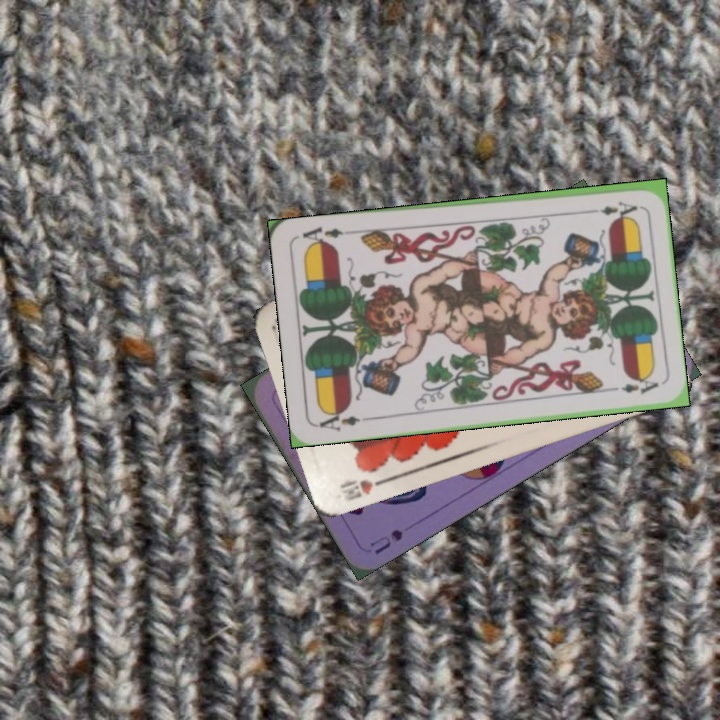EA: (315, 406, 373, 434), (583, 197, 640, 218)
H10: (335, 473, 393, 503)
SU: (366, 525, 406, 557)
